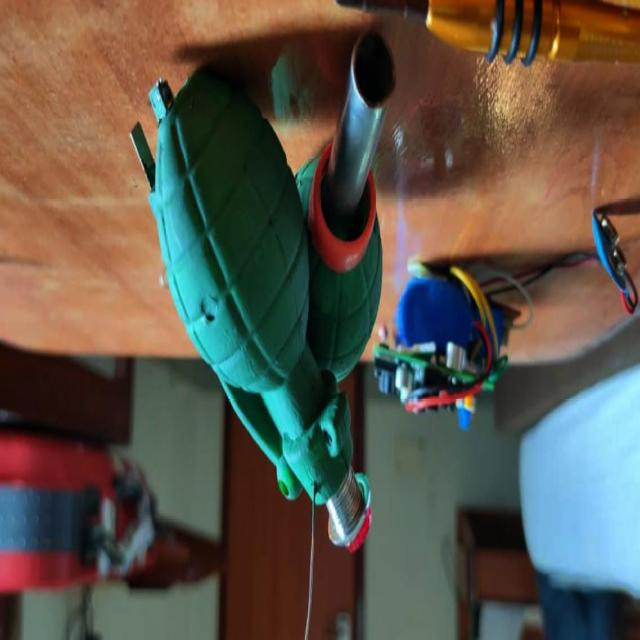grenade: (131, 71, 373, 556), (296, 29, 396, 383)
